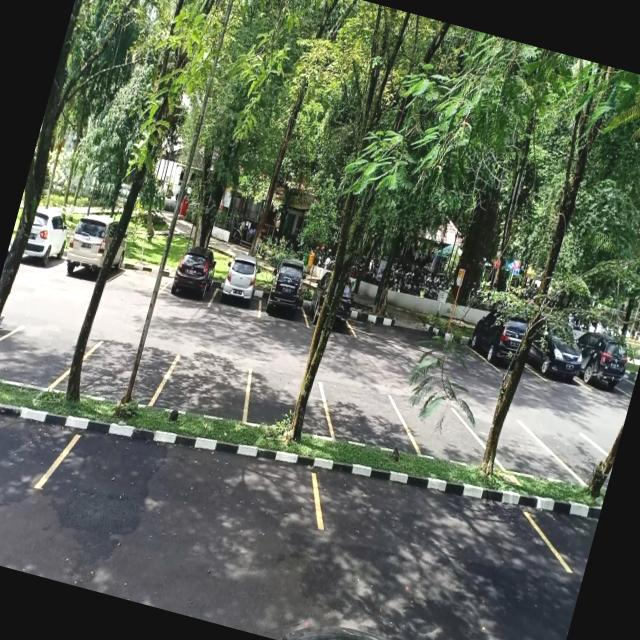car: (56, 215, 130, 290), (524, 323, 589, 389), (466, 310, 526, 372), (20, 207, 73, 277), (211, 260, 270, 318), (164, 255, 224, 312), (258, 272, 314, 329)
free: (50, 404, 327, 553), (305, 448, 560, 585), (74, 333, 174, 414), (156, 351, 252, 429), (240, 367, 332, 442), (318, 382, 410, 456), (397, 398, 489, 472), (0, 316, 81, 397), (490, 418, 568, 488), (548, 426, 617, 490), (112, 251, 172, 300)
